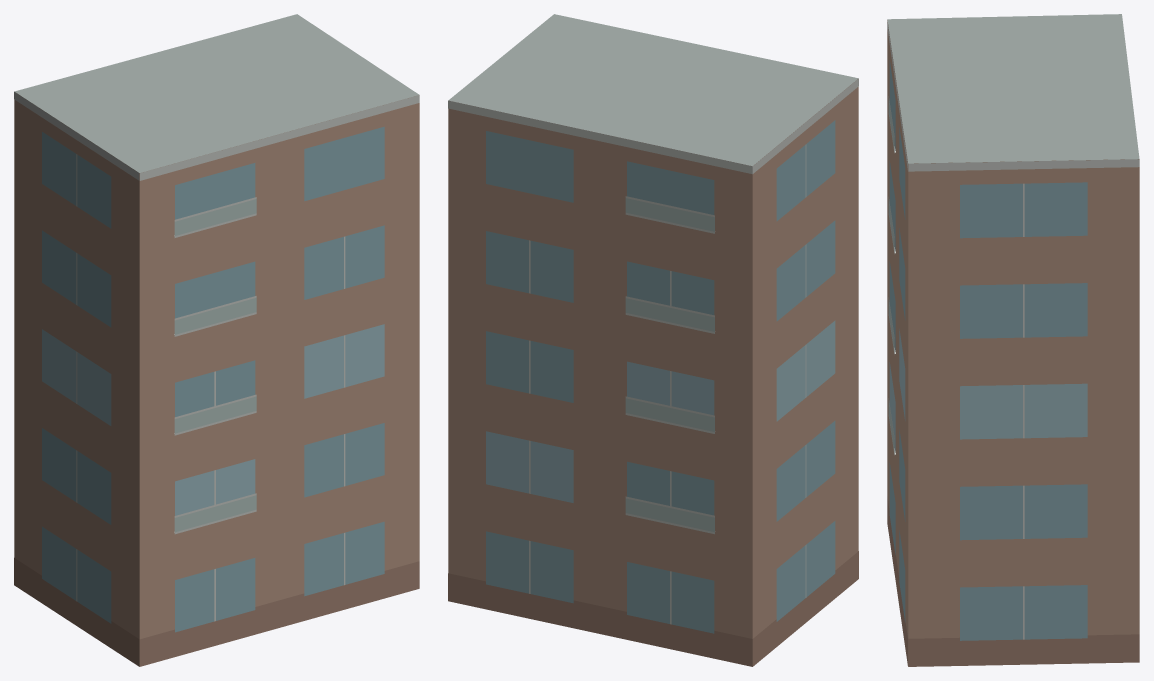
The model's file is survey-upis-32705617.glb.
3 views of the same model, side by side, from view 1: azimuth 30°, elevation 25°; view 2: azimuth 150°, elevation 25°; view 3: azimuth 270°, elevation 25° (orthographic).
Parts seen in each view (by area): view 1: survey-upis-32705617.tmp; view 2: survey-upis-32705617.tmp; view 3: survey-upis-32705617.tmp.
Part boxes in pixels (<box>): survey-upis-32705617.tmp: <box>14,14,419,666</box>; survey-upis-32705617.tmp: <box>448,14,858,666</box>; survey-upis-32705617.tmp: <box>887,14,1139,666</box>.
Size of the model in its own units: 9.73 by 15.25 by 6.94.
